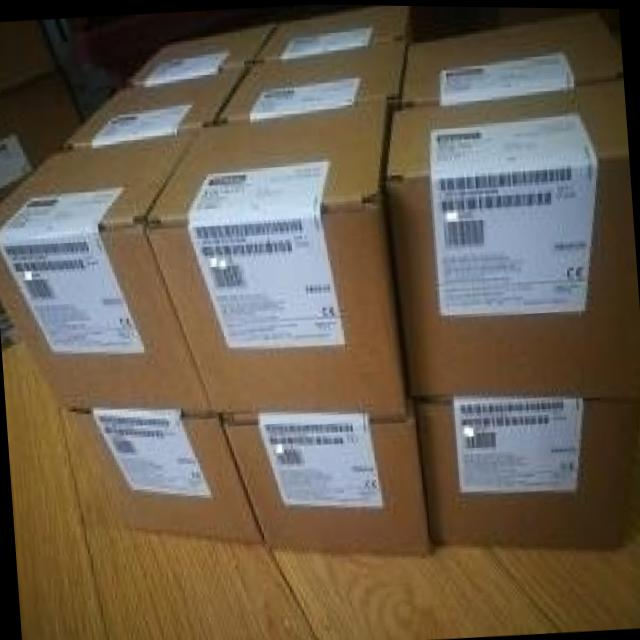box: (143, 95, 409, 418), (383, 76, 640, 401), (0, 127, 211, 415), (409, 394, 640, 545), (218, 394, 433, 553), (69, 414, 262, 540), (400, 7, 623, 103), (213, 42, 406, 123), (61, 65, 248, 146), (0, 68, 82, 202), (127, 20, 276, 81), (250, 4, 409, 60), (0, 19, 58, 96)
